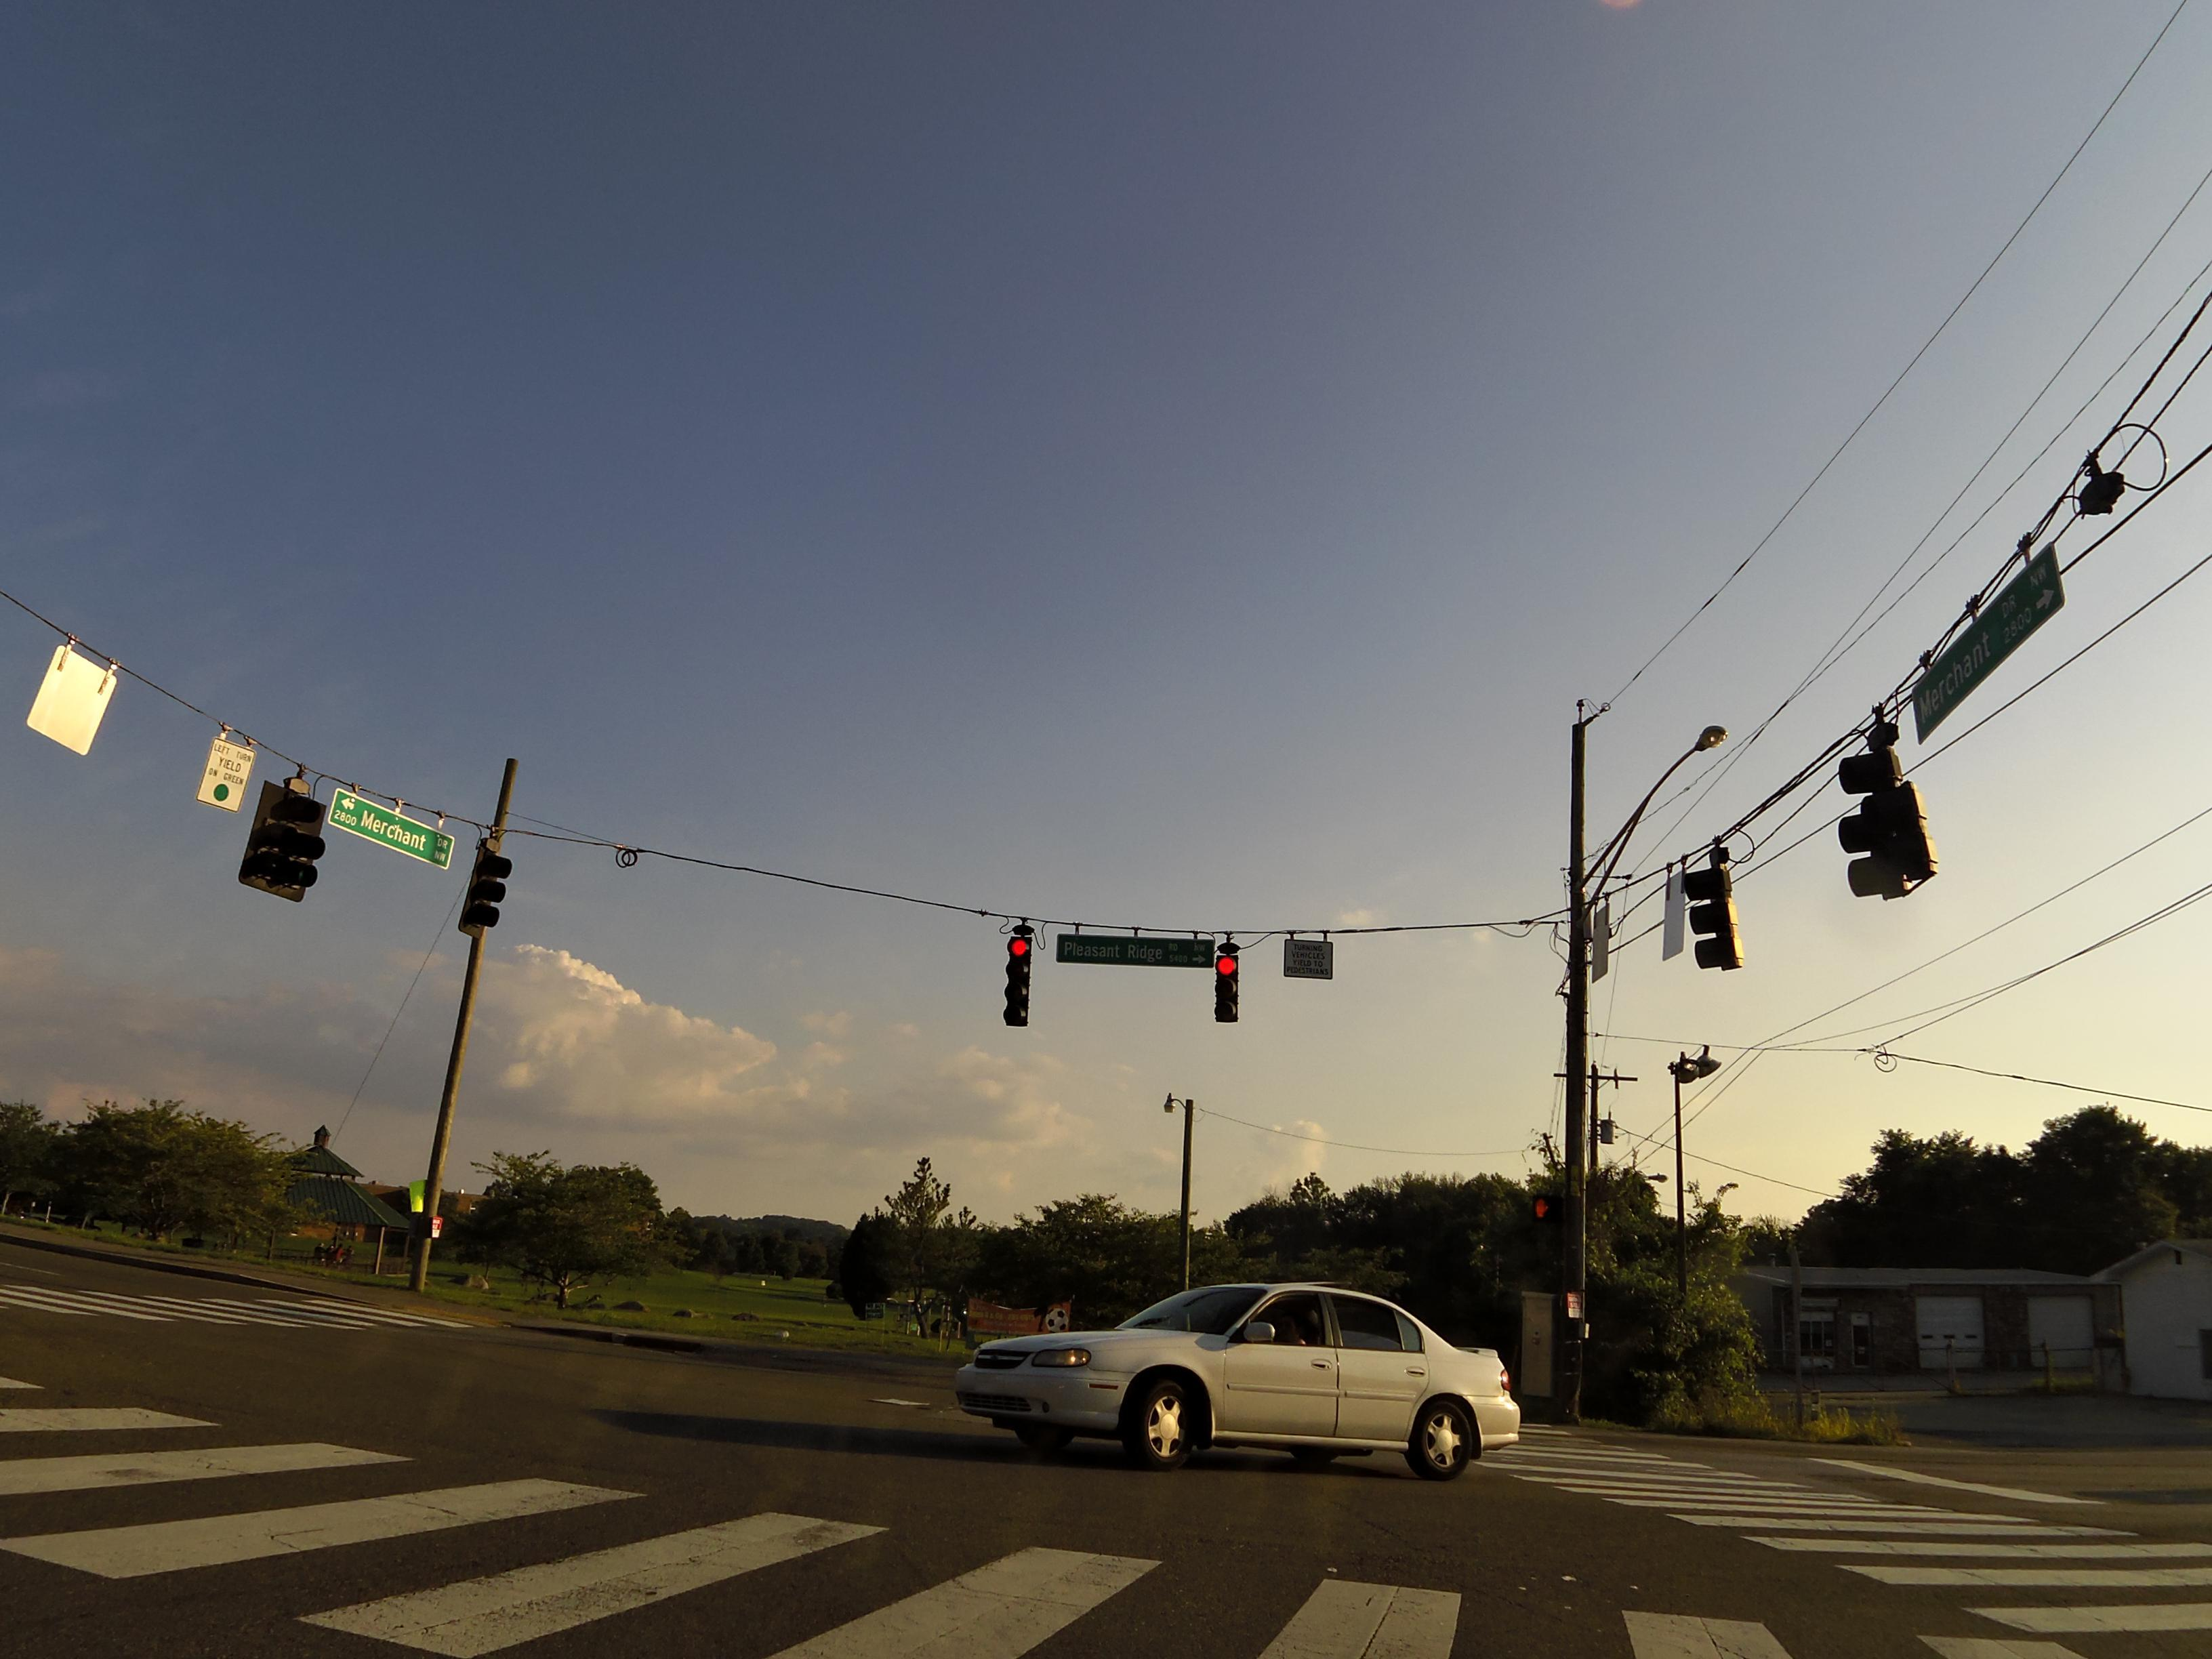vinyl banner: (949, 1277, 1089, 1356)
